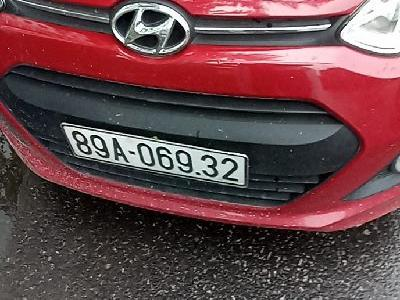lisence: (59, 121, 250, 190)
